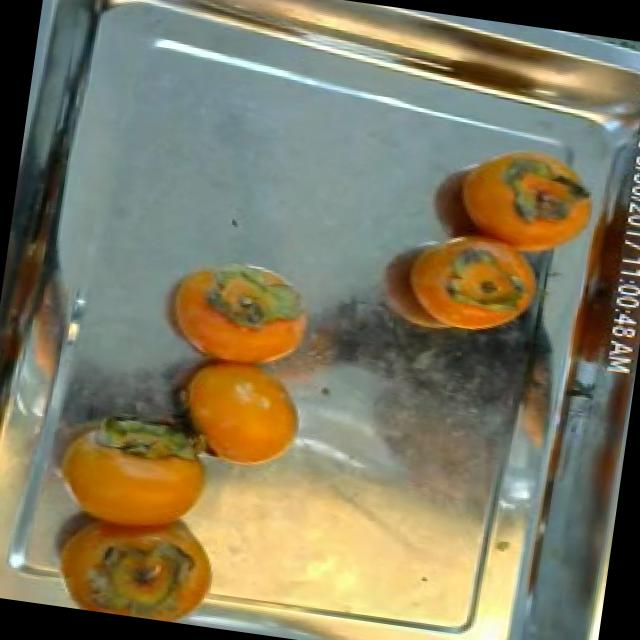Fruit: (358, 218, 554, 360), (145, 338, 327, 486), (144, 251, 326, 385), (437, 143, 605, 275)
